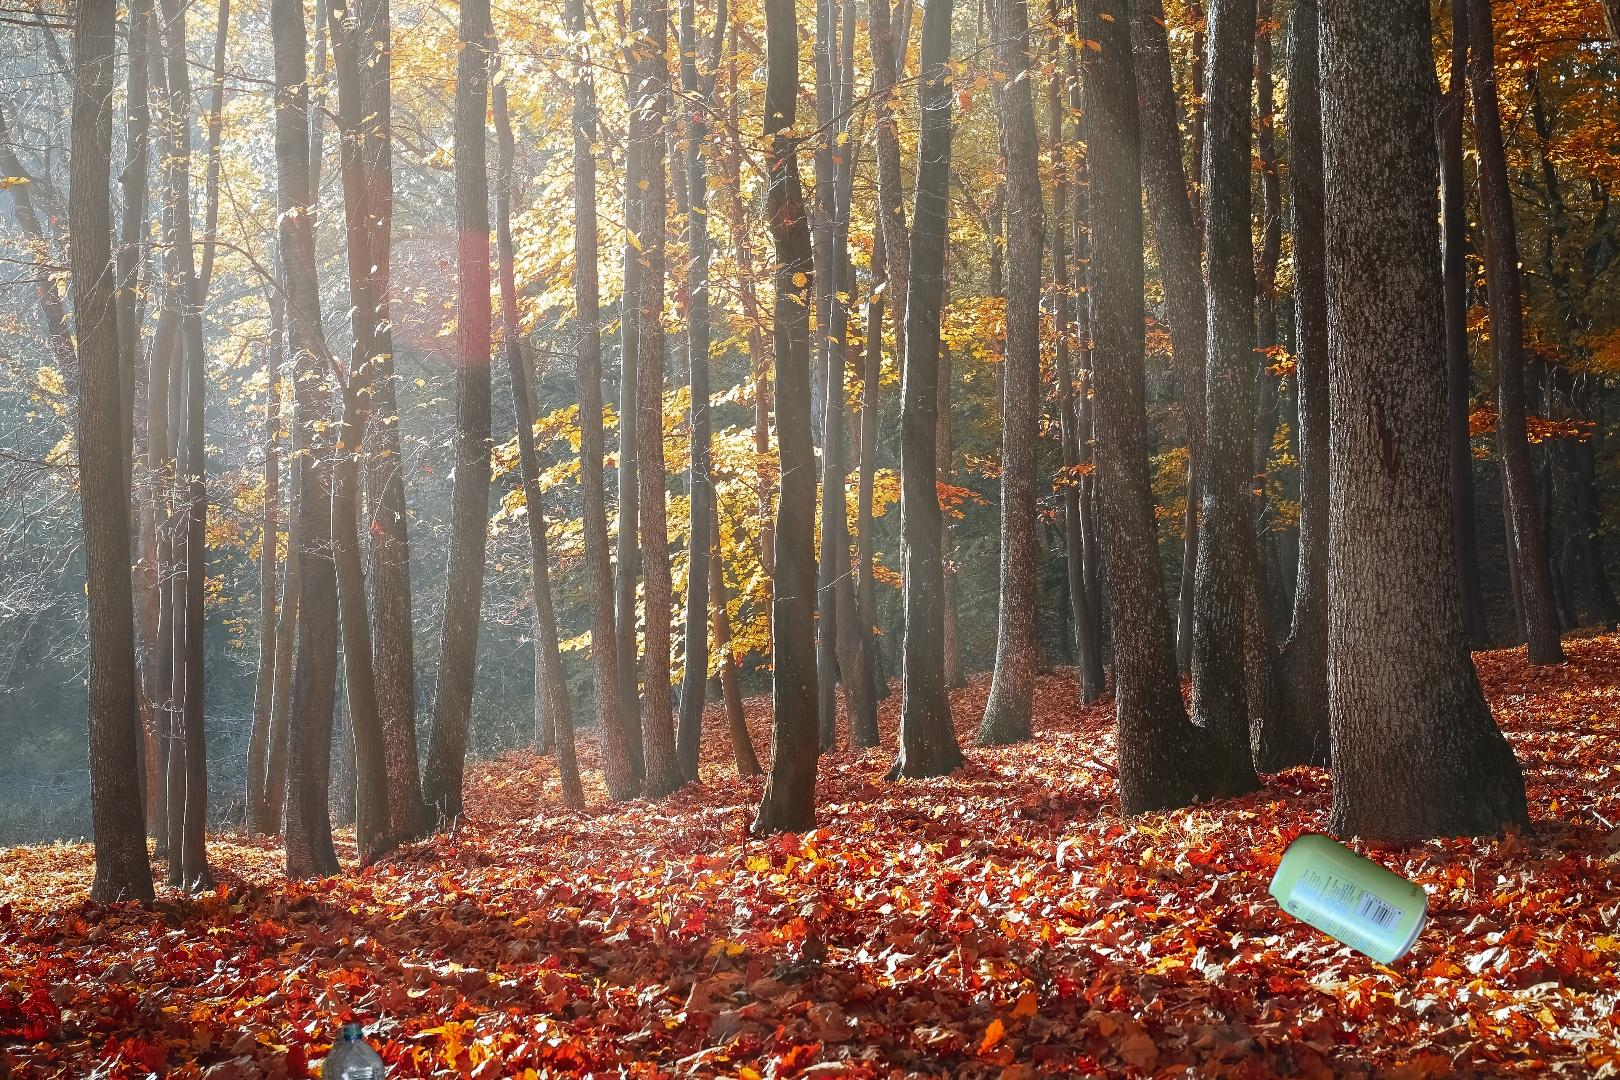metal-cans: (1264, 826, 1433, 972)
plastic-bottles: (317, 1017, 405, 1080)
